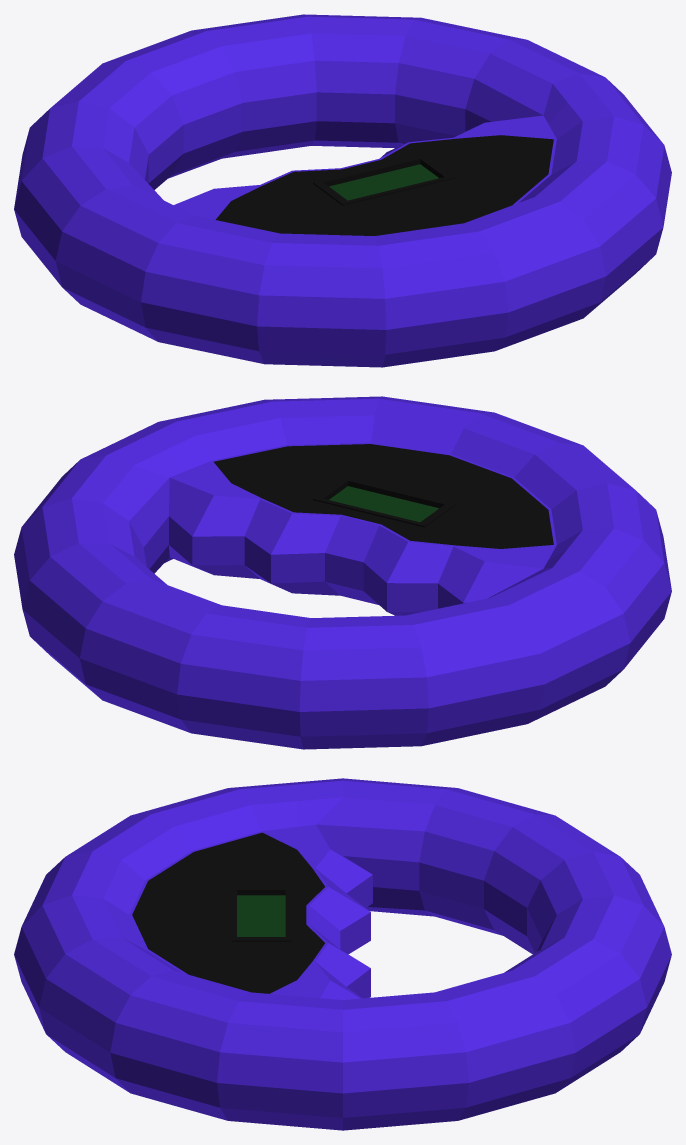
Rendered from ChipScanner.fbx.
The picture shows the model from 3 angles, top to bottom: view 1: azimuth 30°, elevation 25°; view 2: azimuth 150°, elevation 25°; view 3: azimuth 270°, elevation 25°; orthographic projection.
Parts seen in each view (by area): view 1: Chip Reader; view 2: Chip Reader; view 3: Chip Reader.
Part boxes in pixels (x1,y1,x2,y2): Chip Reader: (14, 14, 671, 367); Chip Reader: (14, 396, 671, 749); Chip Reader: (14, 778, 671, 1130).
Bounding box in the file's own units: 25.57 × 5.08 × 25.57.
